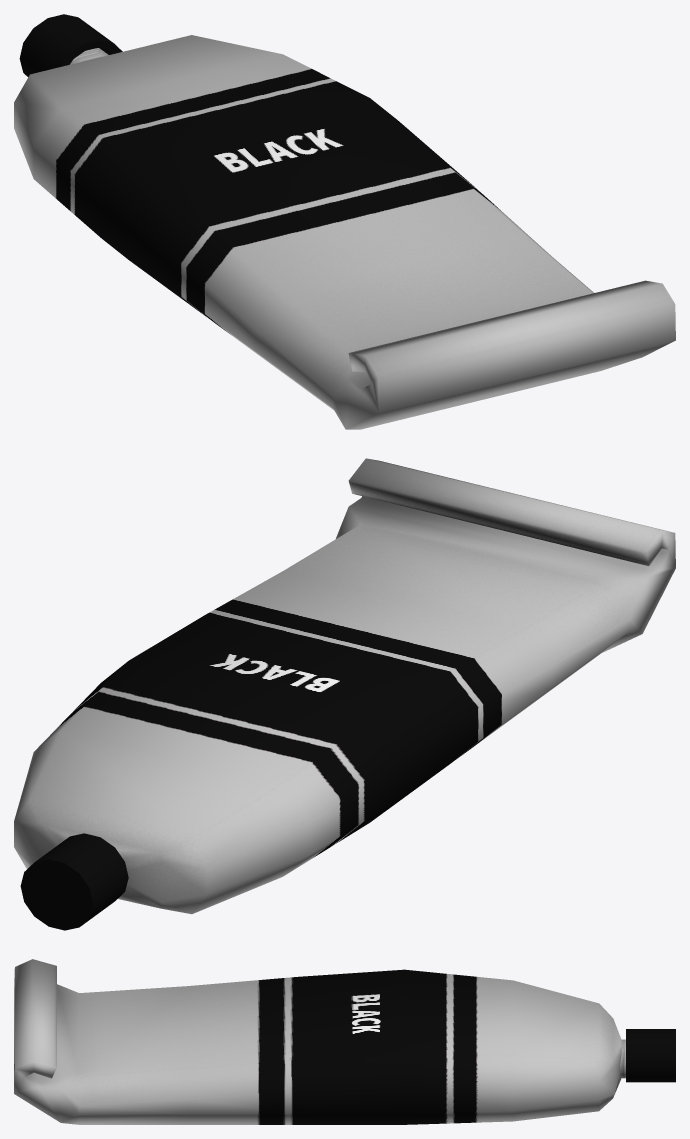
The model's file is paint_09.fbx.
3 views of the same model, one above another, from view 1: azimuth 30°, elevation 25°; view 2: azimuth 150°, elevation 25°; view 3: azimuth 270°, elevation 25° (orthographic). The views are drawn at different scales.
Parts seen in each view (by area): view 1: paint_09, paint_09.lid; view 2: paint_09, paint_09.lid; view 3: paint_09, paint_09.lid.
Part boxes in pixels (left/top/right/bottom): paint_09: left=14, top=35, right=675, bottom=429; paint_09.lid: left=19, top=14, right=122, bottom=76; paint_09: left=14, top=458, right=675, bottom=914; paint_09.lid: left=20, top=833, right=128, bottom=930; paint_09: left=14, top=959, right=625, bottom=1124; paint_09.lid: left=626, top=1029, right=675, bottom=1082.
Bounding box in the file's own units: 11.6 × 3.91 × 31.88.
